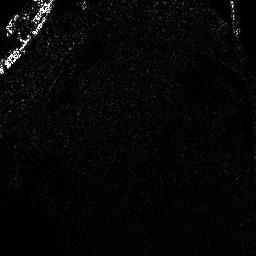ship: (3, 53, 24, 68)
